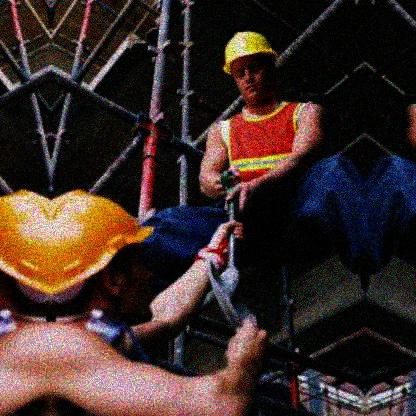helmet: (51, 190, 158, 322), (221, 30, 281, 103)
